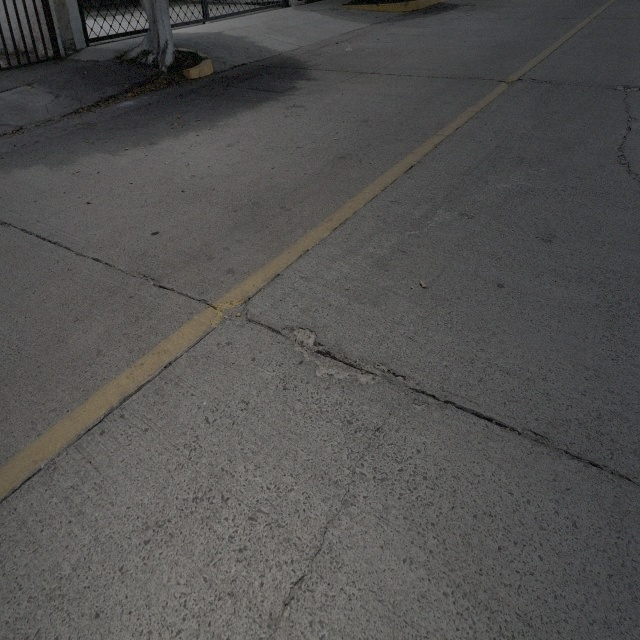pothole: (283, 324, 384, 389), (210, 297, 253, 329)
